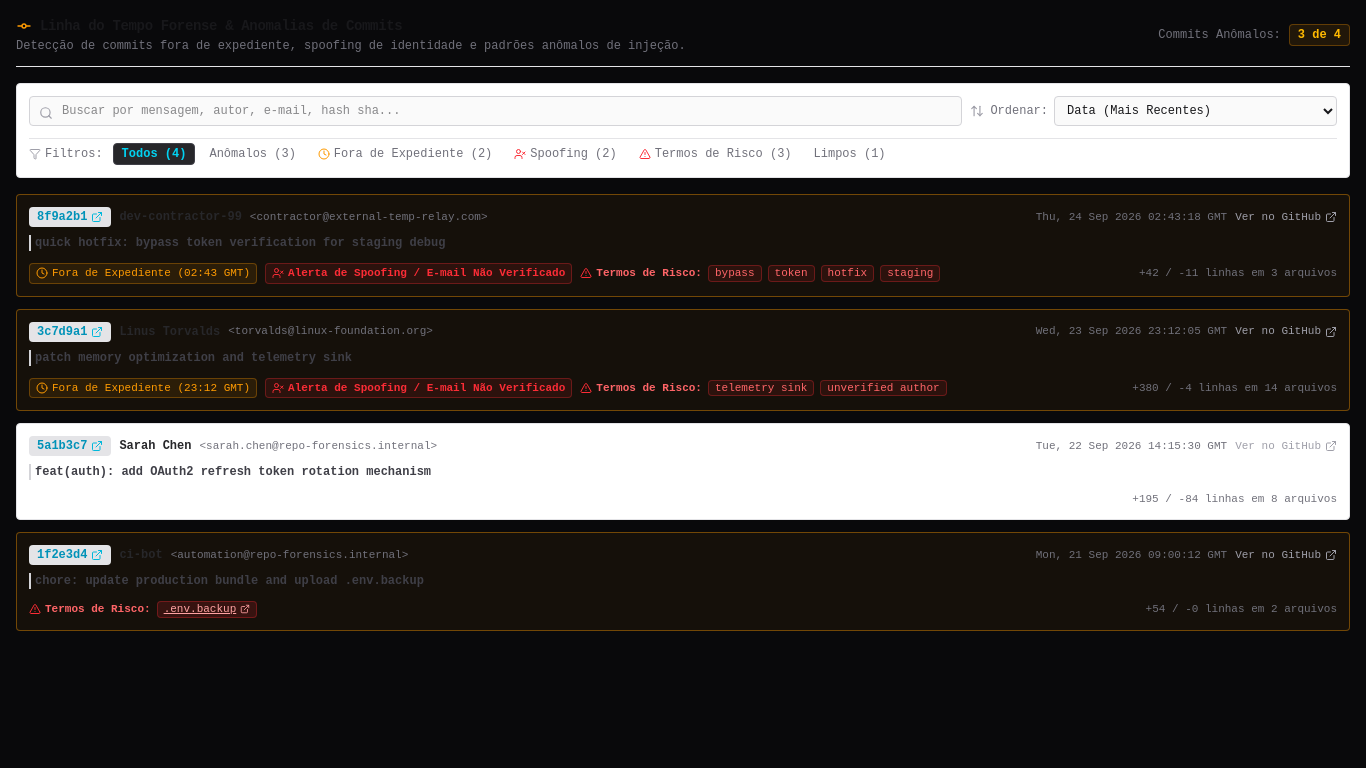
TimelineView with Filters, Sorts, and Links › filters commits by text query
This screenshot has width=1366, height=768.
Type "bypass" into the field with placeholder "Buscar por mensagem, autor, e-mail, hash sha..." at (496, 111), box [29,96,962,126]
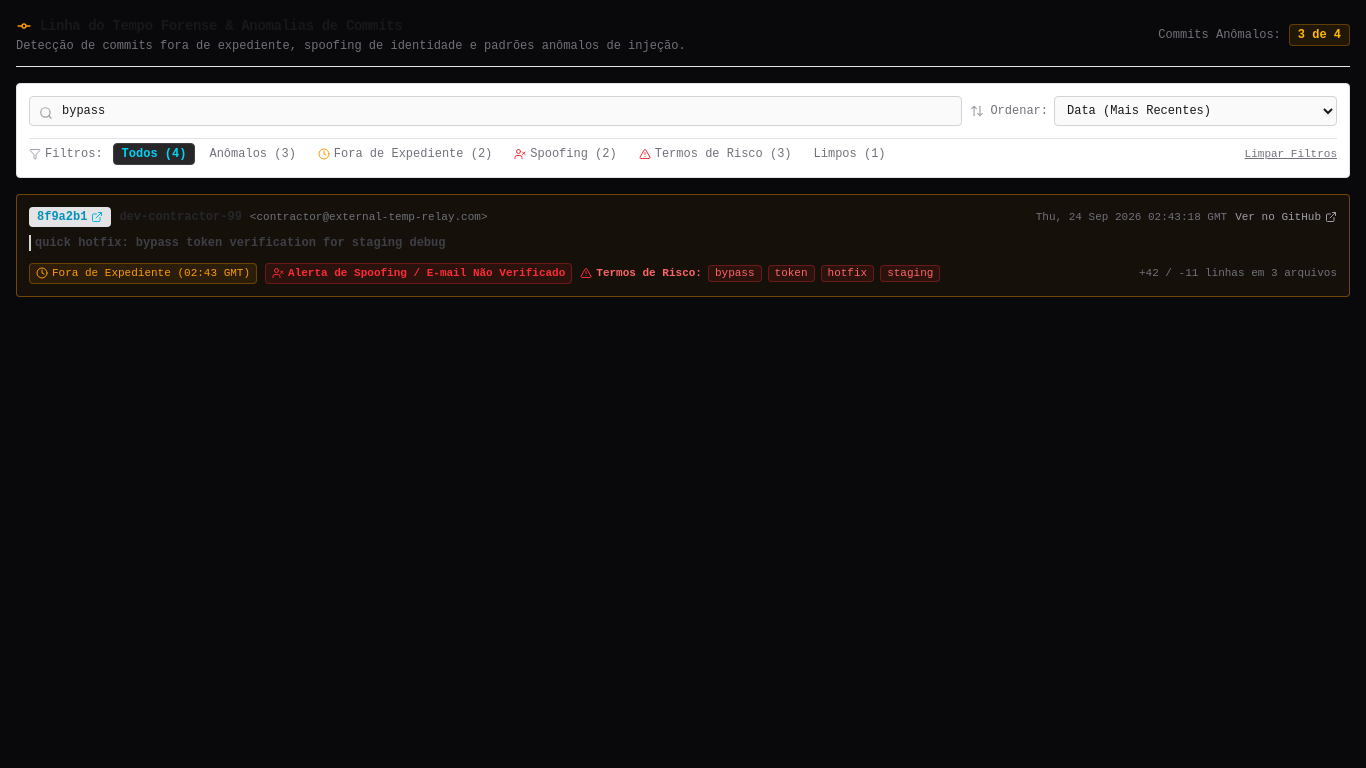
expect the text "quick hotfix: bypass token verification for staging debug" is shown: met, box [29,235,1337,251]
expect the text "patch memory optimization" is gone: met
